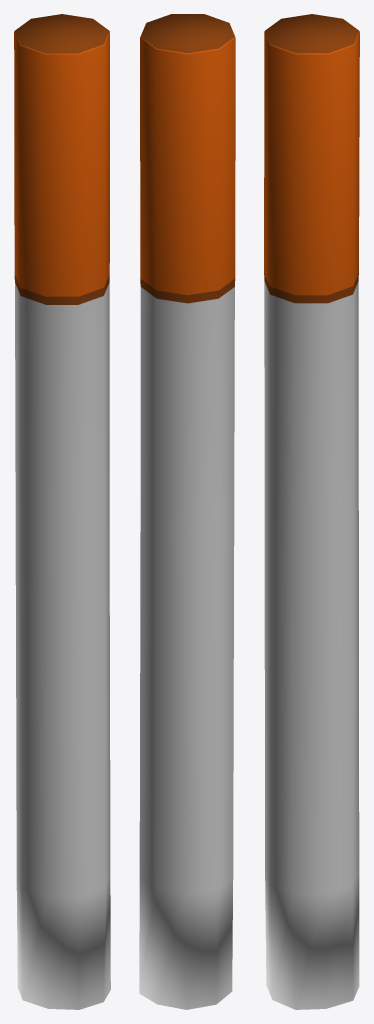
File: siga.obj
3 views of the same model, side by side, from view 1: azimuth 30°, elevation 25°; view 2: azimuth 210°, elevation 25°; view 3: azimuth 270°, elevation 25° (orthographic).
Parts seen in each view (by area): view 1: siga_; view 2: siga_; view 3: siga_.
Part boxes in pixels (x1=…): siga_: x1=14, y1=14, x2=110, y2=1009; siga_: x1=139, y1=14, x2=235, y2=1009; siga_: x1=264, y1=14, x2=359, y2=1009.
Size of the model in its own units: 7.53 by 83.43 by 7.58.
